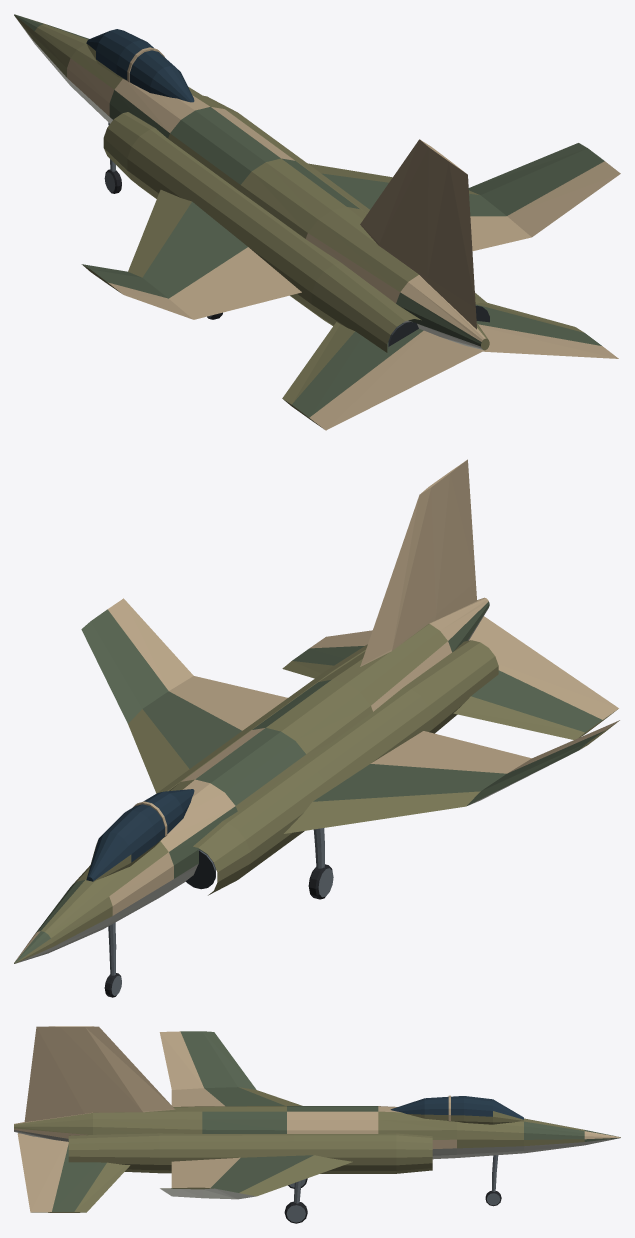
3 renders of one model, top to bottom at view 1: azimuth 30°, elevation 25°; view 2: azimuth 150°, elevation 25°; view 3: azimuth 270°, elevation 25°, orthographic. The views are drawn at different scales.
Parts seen in each view (by area): view 1: airframe; view 2: airframe, gear; view 3: airframe, gear.
Boxes of the visible parts, x1,y1,x2,y2 form: airframe: [14, 14, 620, 430]; airframe: [14, 459, 619, 963]; gear: [104, 828, 333, 997]; airframe: [14, 1026, 620, 1212]; gear: [284, 1155, 501, 1223].
Bounding box in the file's own units: 11.71 × 6.24 × 19.2.
